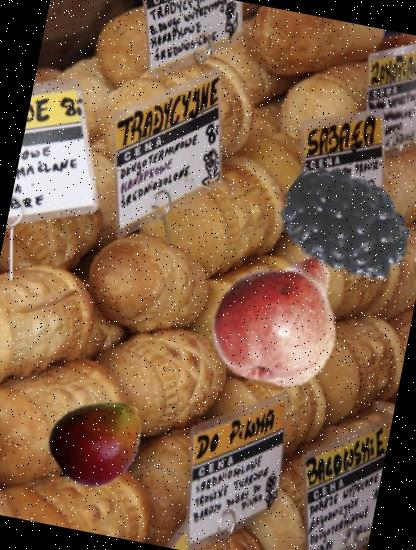Mango: (38, 382, 158, 502)
Mulberry: (267, 145, 416, 304)
Pear: (196, 233, 364, 401)
